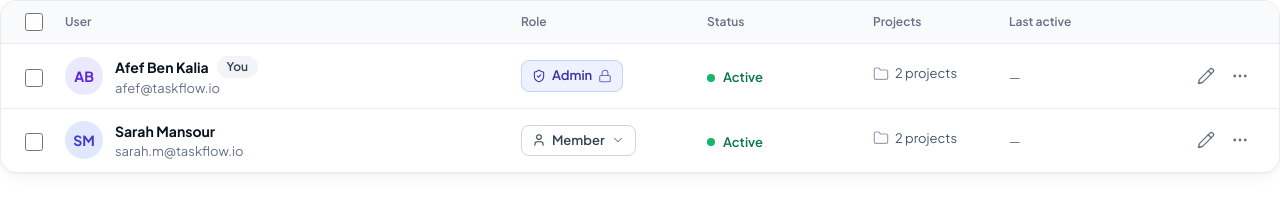
Scenario: RoleSelector in the users table › hides self-destructive actions from the own row menu
Click the button named "More actions for Afef Ben Kalia" at {"x": 1240, "y": 76}, box [1225,61,1255,91]
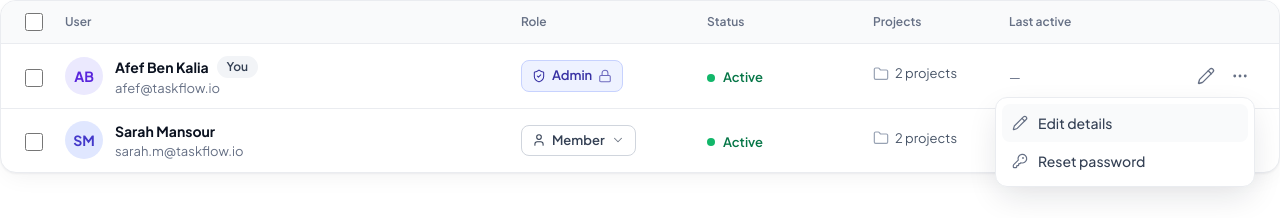
expect the menu item "Edit details" is shown: met, box [1002,104,1248,142]
